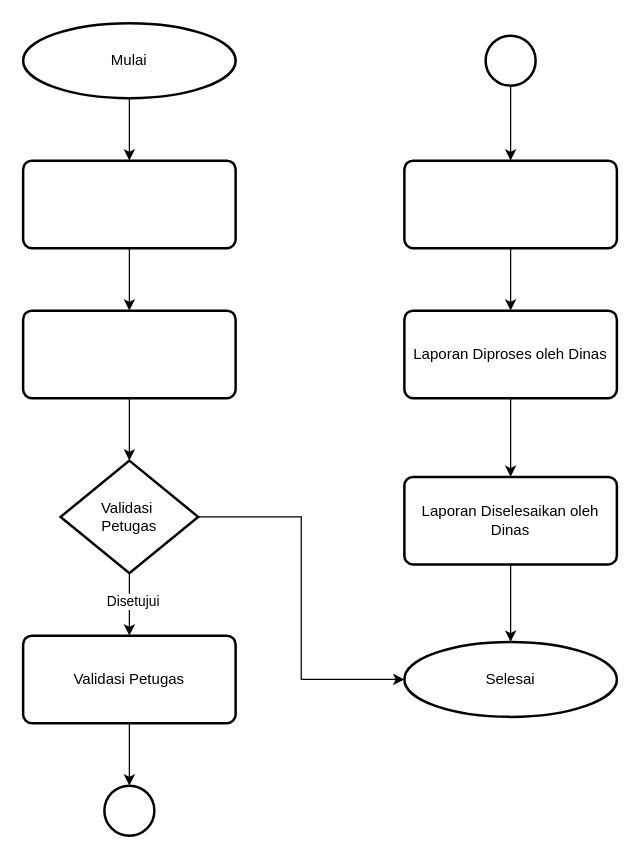
This 639x858 diagram has some shape labels left out. Here are the shapes that lost their labels. From the top down, the box of each, then its label:
(21, 159, 236, 249): Buat Laporan
(402, 159, 618, 249): Laporan Diteruskan ke Dinas
(21, 309, 236, 399): Klasifikasi Urgensi Laporan
